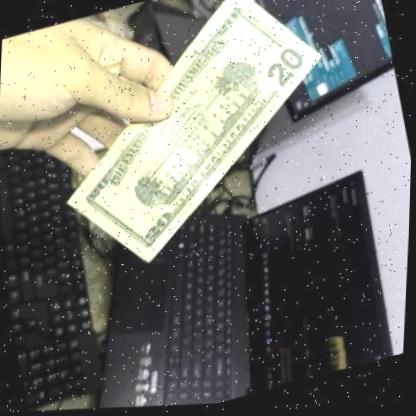twenty-back: (24, 0, 360, 289)
